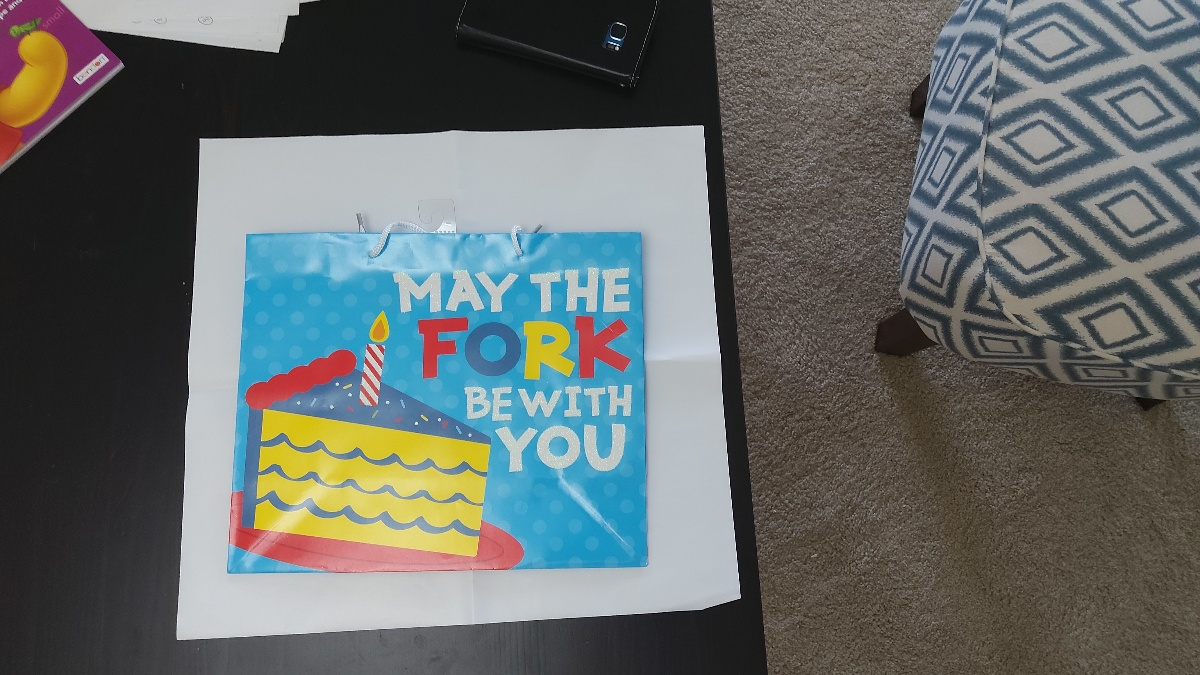paper_bag: (244, 232, 654, 572)
